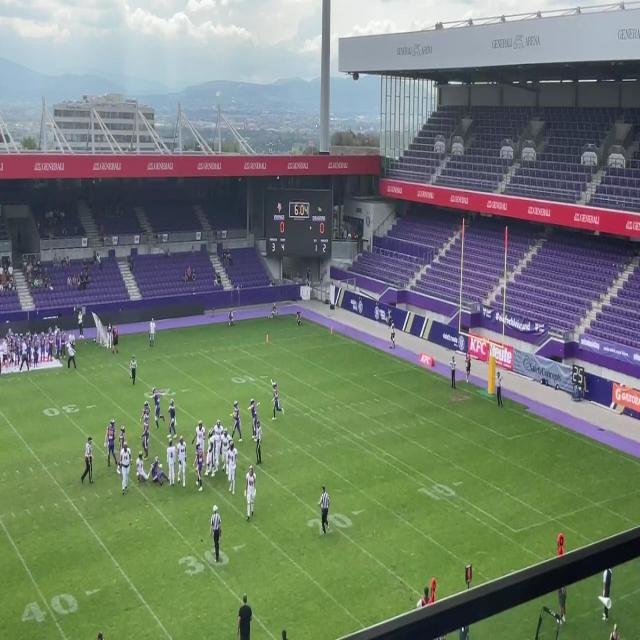1: (412, 485, 450, 507)
3: (176, 552, 207, 582)
4: (19, 596, 50, 630)
american-football-players: (116, 440, 132, 494), (243, 464, 257, 521), (176, 434, 188, 492), (227, 442, 238, 497), (150, 456, 168, 489), (193, 442, 204, 494), (105, 419, 116, 470), (270, 381, 283, 422), (140, 398, 153, 438), (207, 430, 218, 476), (136, 452, 150, 488), (166, 437, 176, 487), (233, 400, 244, 445), (140, 413, 150, 462), (166, 400, 178, 440), (220, 430, 232, 469), (249, 396, 258, 443), (214, 418, 223, 464), (194, 420, 207, 451), (153, 386, 163, 423), (119, 424, 128, 464)
